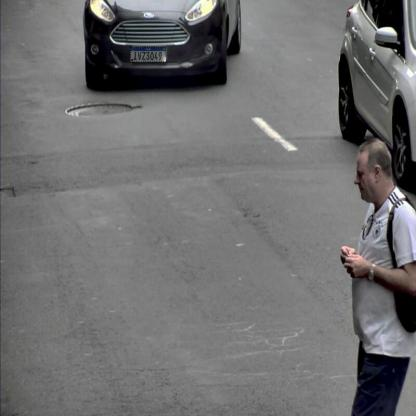PlacaM: (130, 46, 166, 63)
